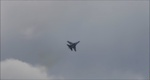maybay_muctieu: (67, 38, 79, 53)
